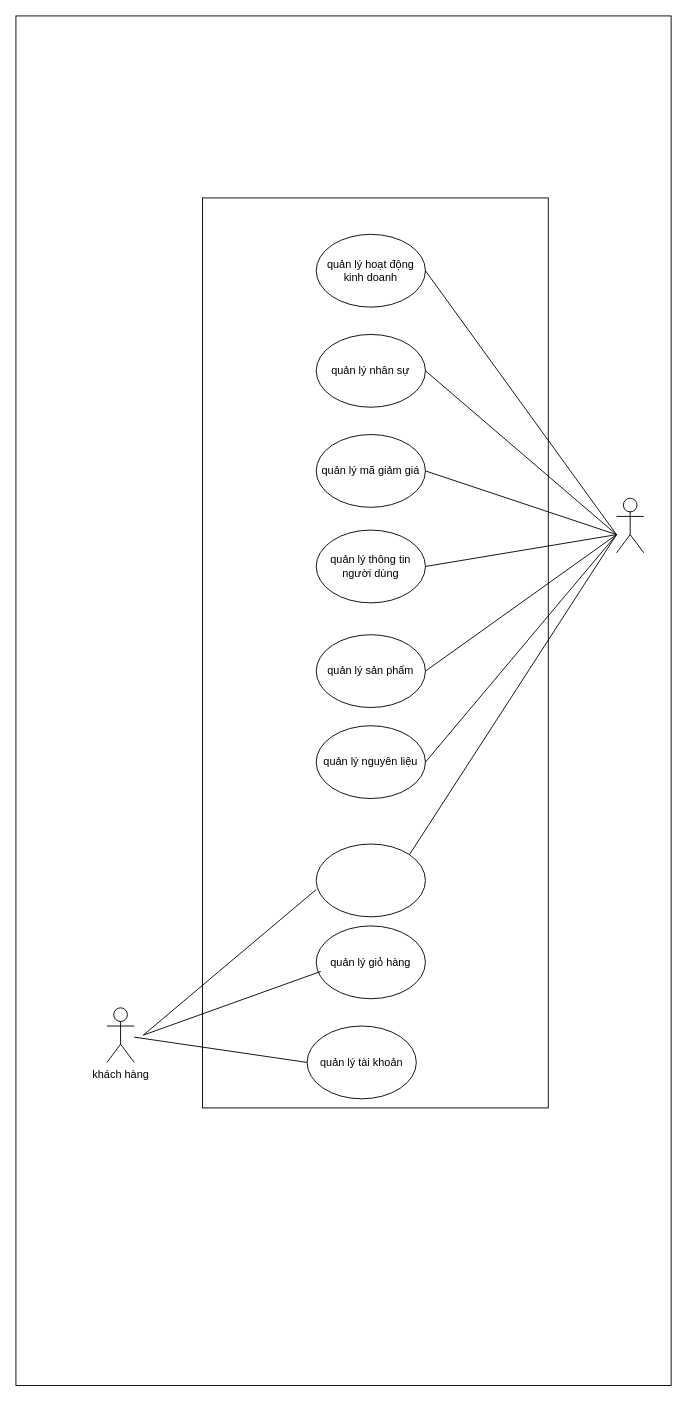
Some shapes in this 687 by 1401 pixel diagram are drawn without their labels. Here are the shapes that lost their labels. From the top down, the box of each, then its label:
(616, 497, 644, 553): quản trị viên
(315, 843, 425, 917): quản lý đơn hàng
